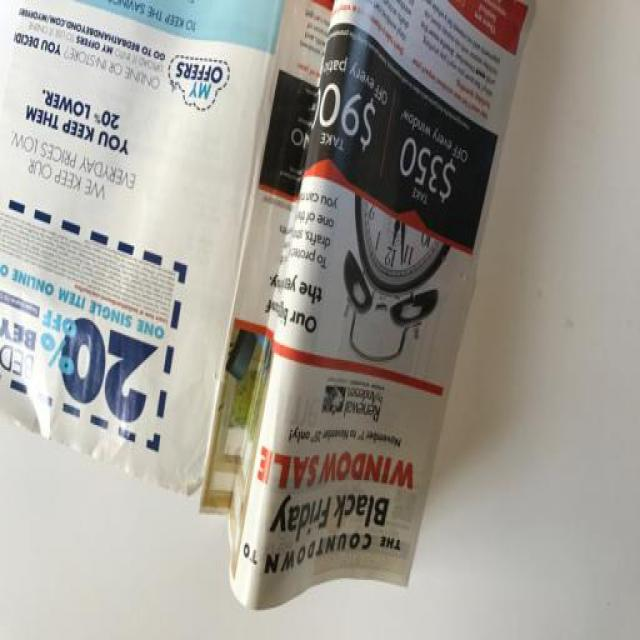paper: (1, 1, 583, 611)
